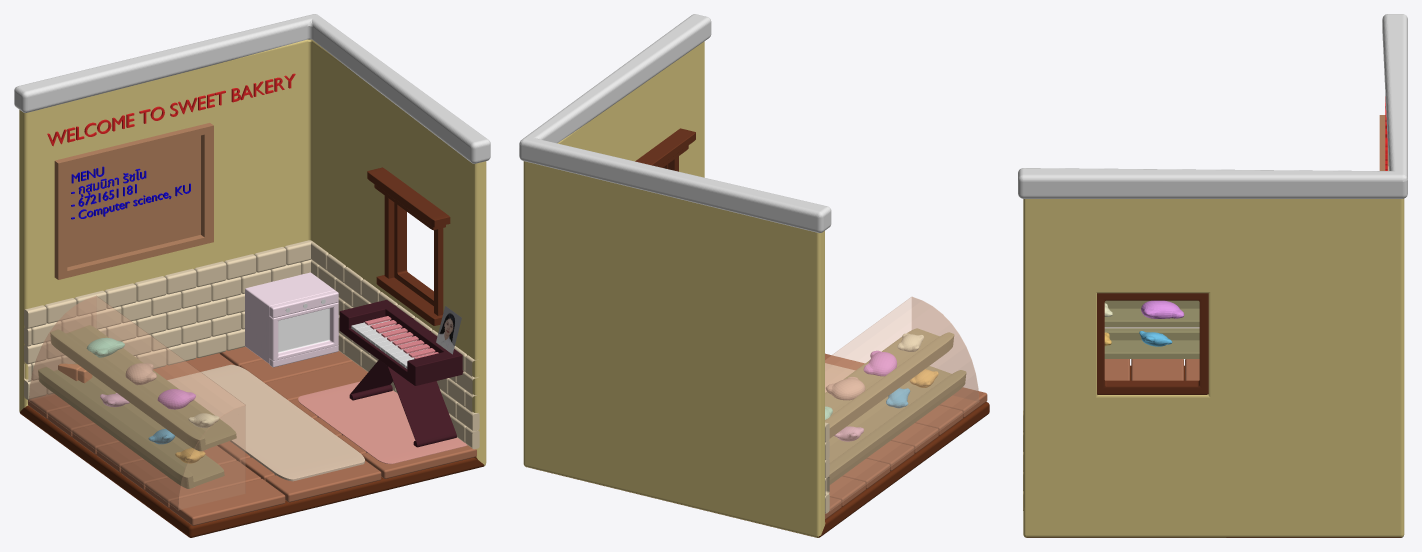
The model's file is project14.glb.
3 views of the same model, side by side, from view 1: azimuth 30°, elevation 25°; view 2: azimuth 150°, elevation 25°; view 3: azimuth 270°, elevation 25° (orthographic). The views are drawn at different scales.
Visible parts, largest first — view 1: Cube, Cube.019, Cube.020, Cube.009, Cube.010, Cube.002, Cube.032, Cube.017, Cube.018, Cube.034, Cube.011, Cube.021 (+16 smaller); view 2: Cube, Cube.019, Cube.002, Cube.009, Cube.017, Cube.018, Cube.005, Cube.026, Cube.024; view 3: Cube, Cube.002, Cube.006, Cube.017, Cube.009, Cube.018, Cube.024.
Part boxes in pixels (<box>): Cube: <box>19,39,486,537</box>; Cube.019: <box>28,295,245,510</box>; Cube.020: <box>54,123,213,279</box>; Cube.009: <box>28,346,476,525</box>; Cube.010: <box>24,240,312,399</box>; Cube.002: <box>14,14,490,163</box>; Cube.032: <box>167,364,364,481</box>; Cube.017: <box>38,363,224,488</box>; Cube.018: <box>50,325,236,451</box>; Cube.034: <box>298,381,467,464</box>; Cube.011: <box>311,241,479,449</box>; Cube.021: <box>339,299,463,385</box>; Cube: <box>523,41,989,537</box>; Cube.019: <box>825,296,979,510</box>; Cube.002: <box>519,14,831,233</box>; Cube.009: <box>825,353,987,519</box>; Cube.017: <box>829,366,966,484</box>; Cube.018: <box>825,328,954,438</box>; Cube.005: <box>635,128,695,166</box>; Cube.026: <box>826,376,865,400</box>; Cube.024: <box>863,350,896,376</box>; Cube: <box>1023,198,1404,537</box>; Cube.002: <box>1018,14,1407,198</box>; Cube.006: <box>1097,293,1208,394</box>; Cube.017: <box>1104,328,1199,358</box>; Cube.009: <box>1104,359,1199,380</box>; Cube.018: <box>1104,300,1199,327</box>; Cube.024: <box>1141,300,1184,318</box>.
Bounding box in the file's own units: 7.16 × 7.38 × 7.16.
32 materials, 1 textured.
